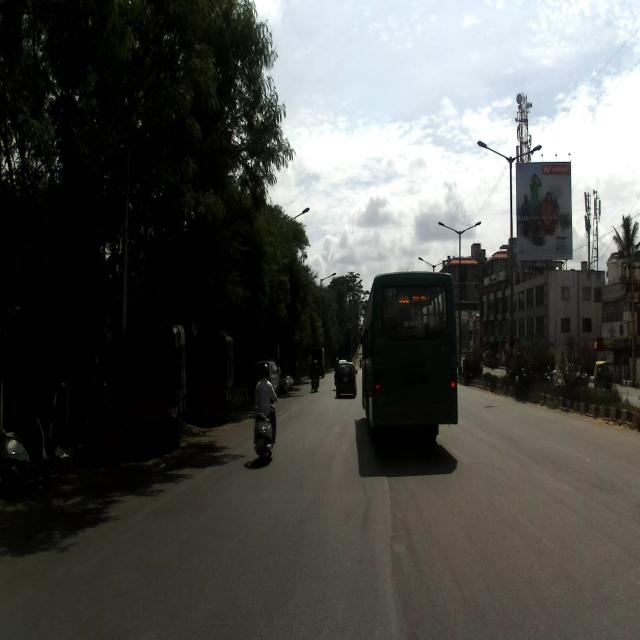bus: (361, 268, 458, 452)
scooter: (252, 403, 276, 459)
